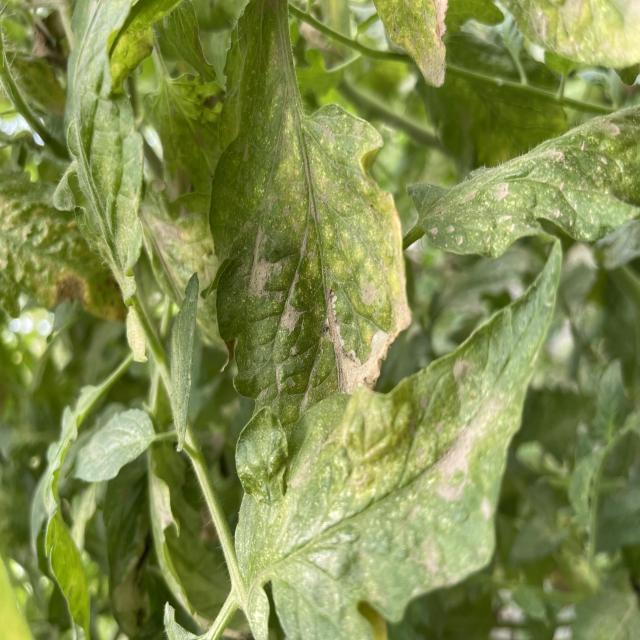Tuta absoluta: (327, 300, 411, 393)
